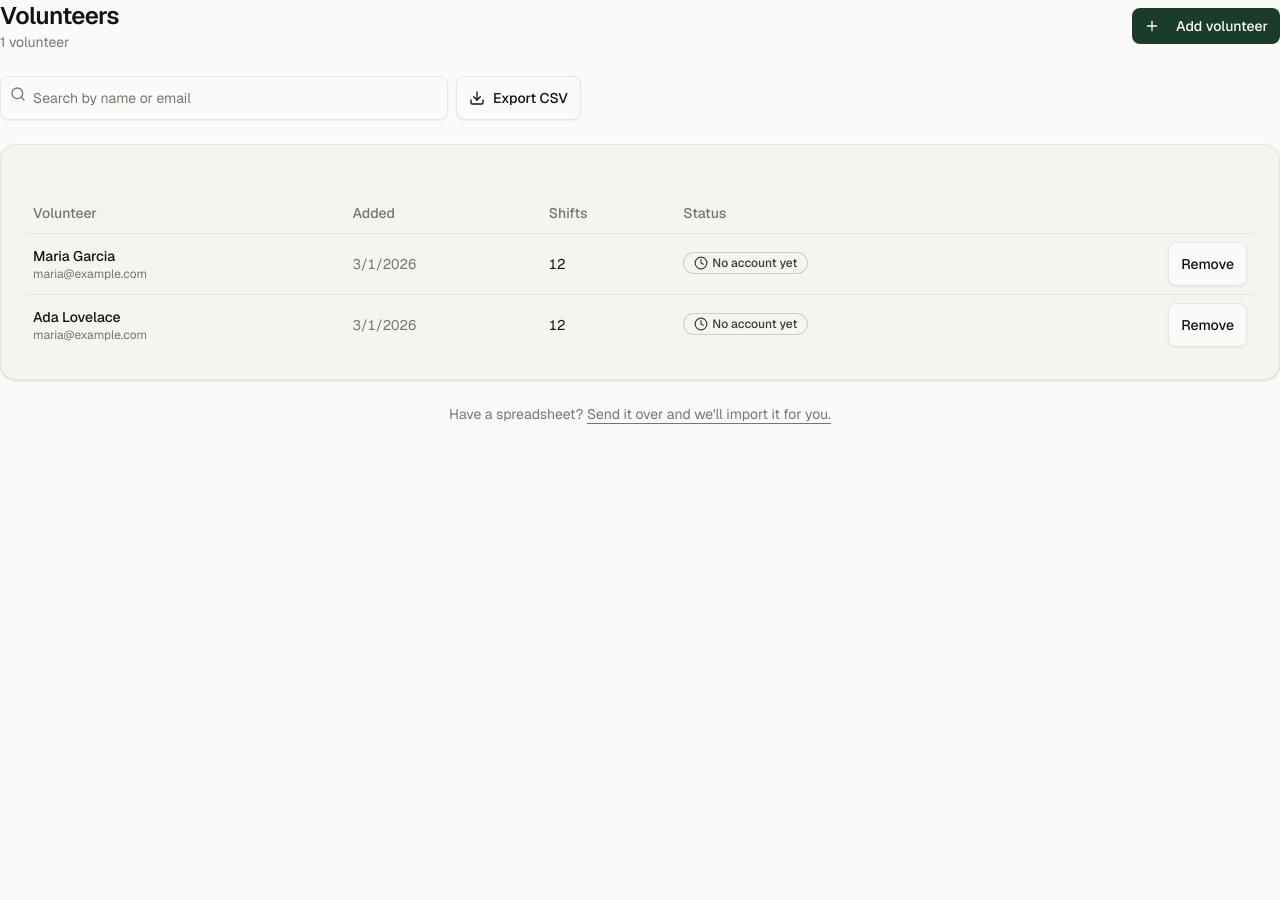
Scenario: VolunteersPage detail dialog (T27) › stays open when a DIFFERENT volunteer is removed
This screenshot has width=1280, height=900.
Step 1. Click the button "Maria Garcia" → (74, 256), box [33,246,115,266]
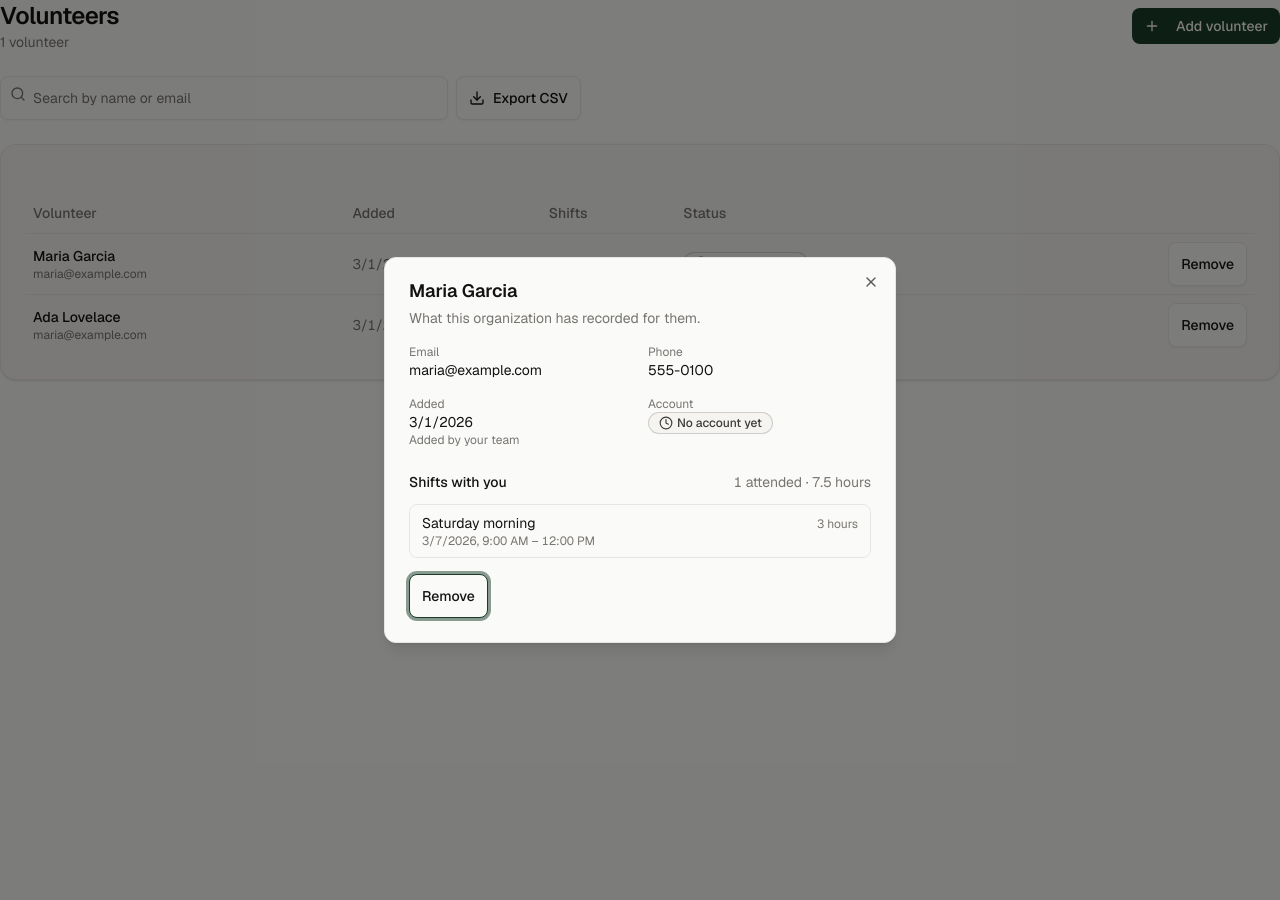
Check: the dialog is shown, box [384,257,896,643]
